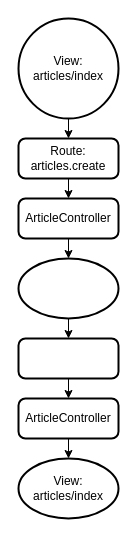
This 136x536 diagram has some shape labels left out. Each missing label, with the centre of its shape:
"Route: articles.store" belongs at pixel 68 358.
"View: articles/create" belongs at pixel 68 288.
